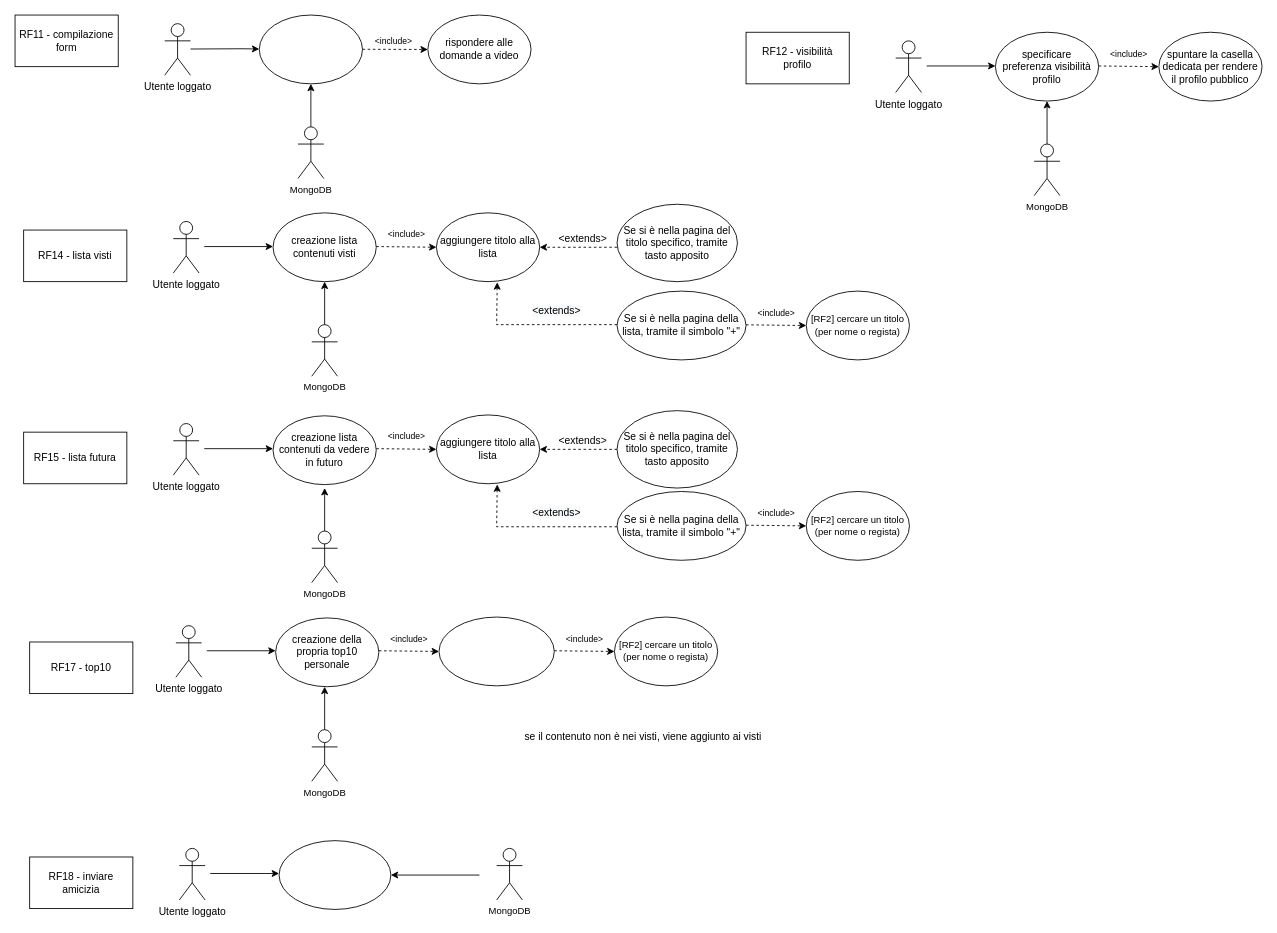
The diagram is 1277 pixels wide and 933 high, and some of its shapes have lost their labels. Here are the shapes that lost their labels. From the top down, the box of each, then its label:
(258, 14, 362, 84): compilare il form preferenze
(438, 616, 554, 686): aggiungere titolo alla lista, tramite il simbolo "+"
(278, 840, 391, 909): inviare richiesta di amicizia, tramite apposito tasto nella pagina profilo
